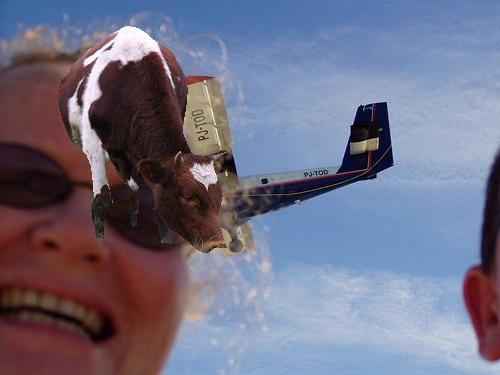tampered: (59, 27, 227, 253)
